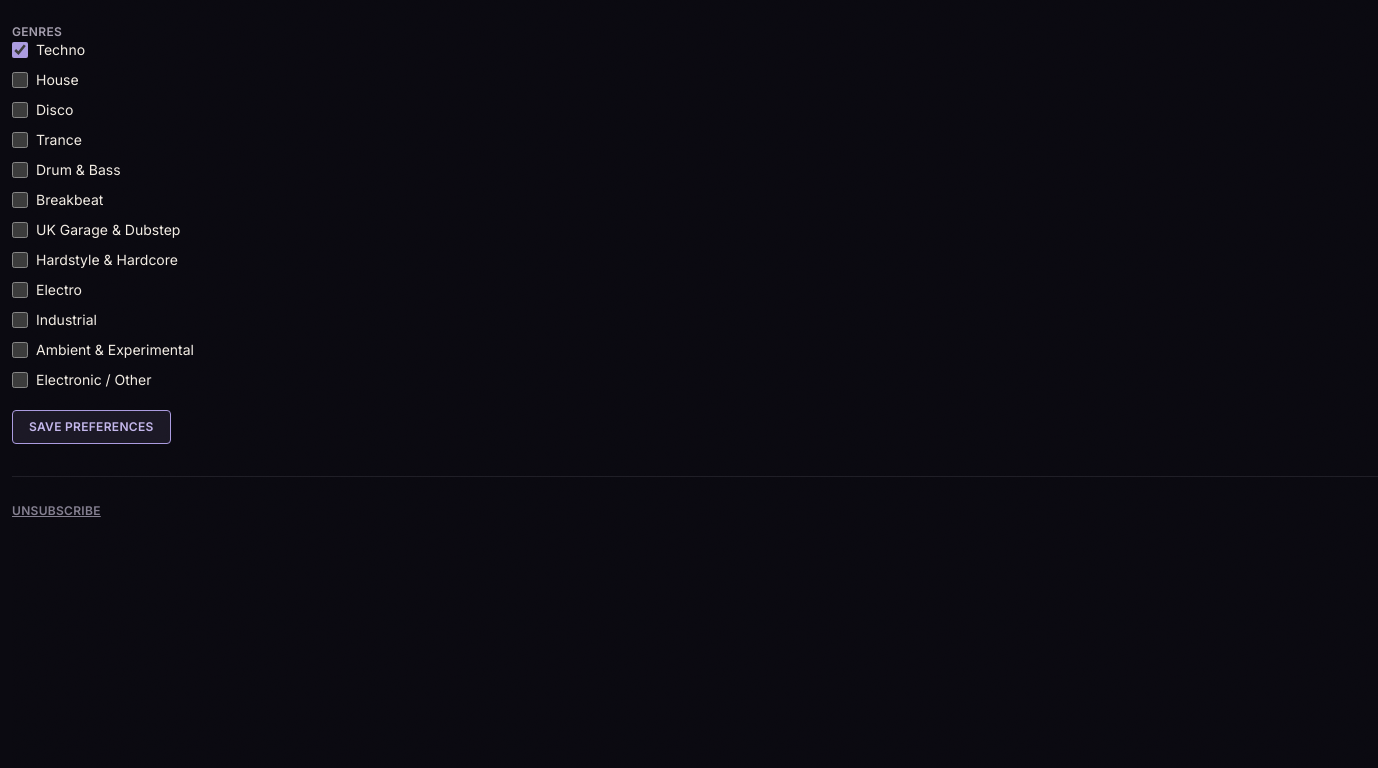
Test case: NewsletterPreferencesForm › saves the currently-checked genres, not the initial ones, when toggled before saving
Click the checkbox labelled "Techno" at (20, 50), box [12,42,28,58]
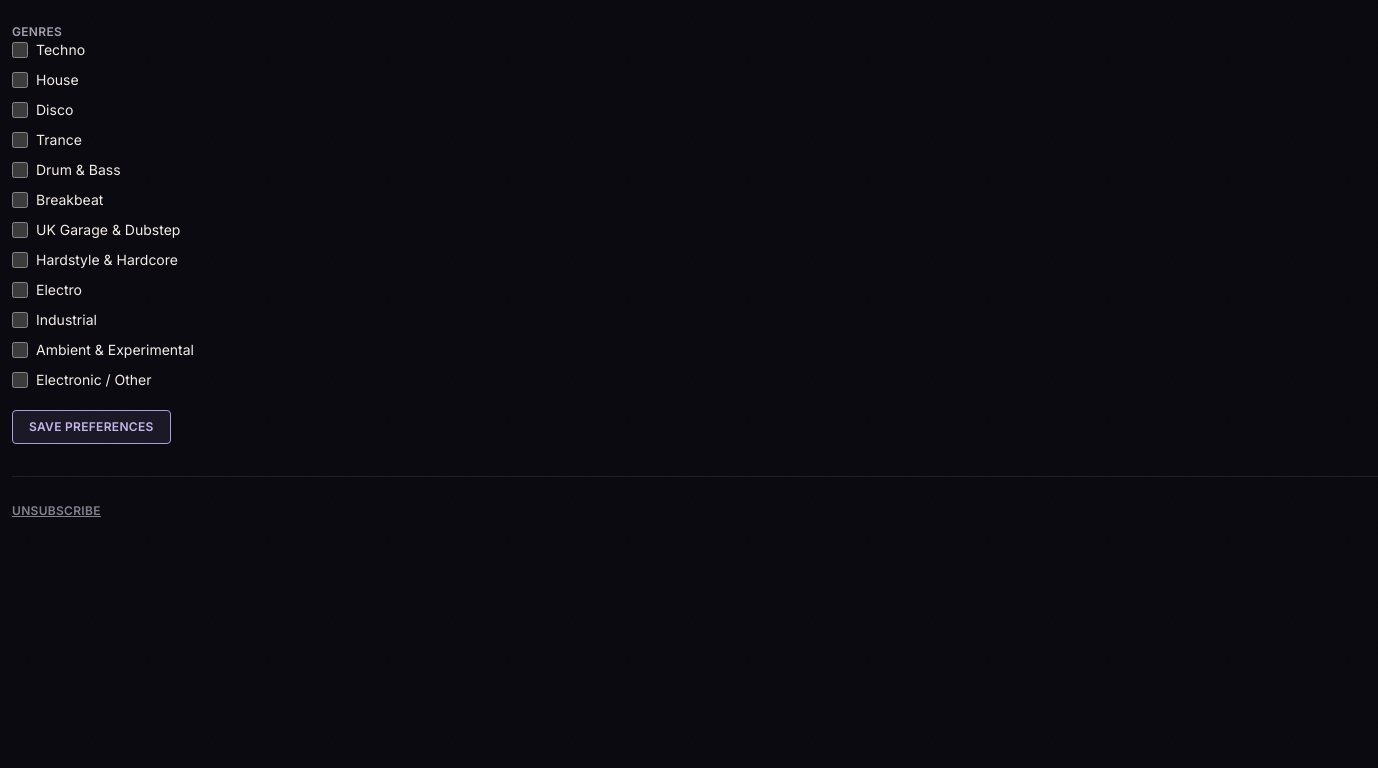
Click the checkbox labelled "House" at (20, 80), box [12,72,28,88]
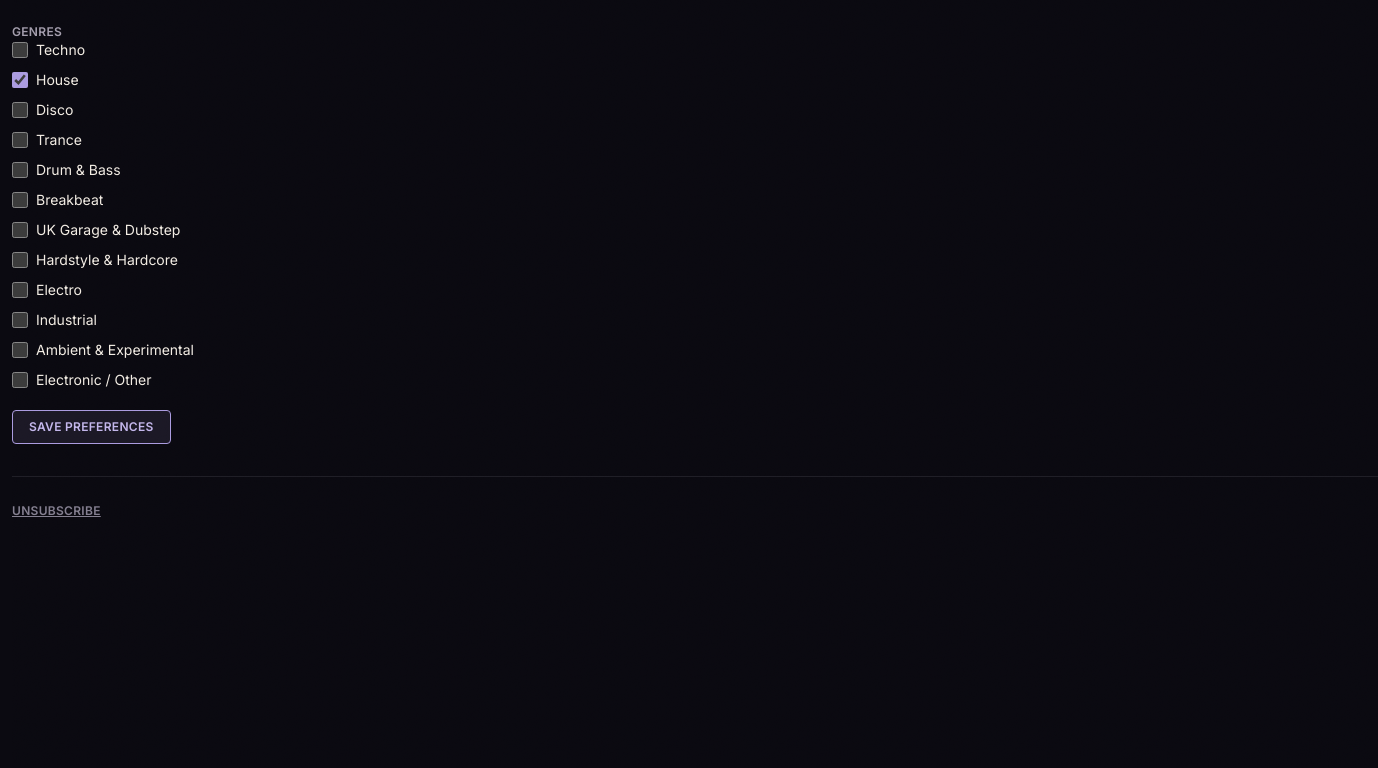
Click the button "Save preferences" at (91, 427), box [12,410,171,444]
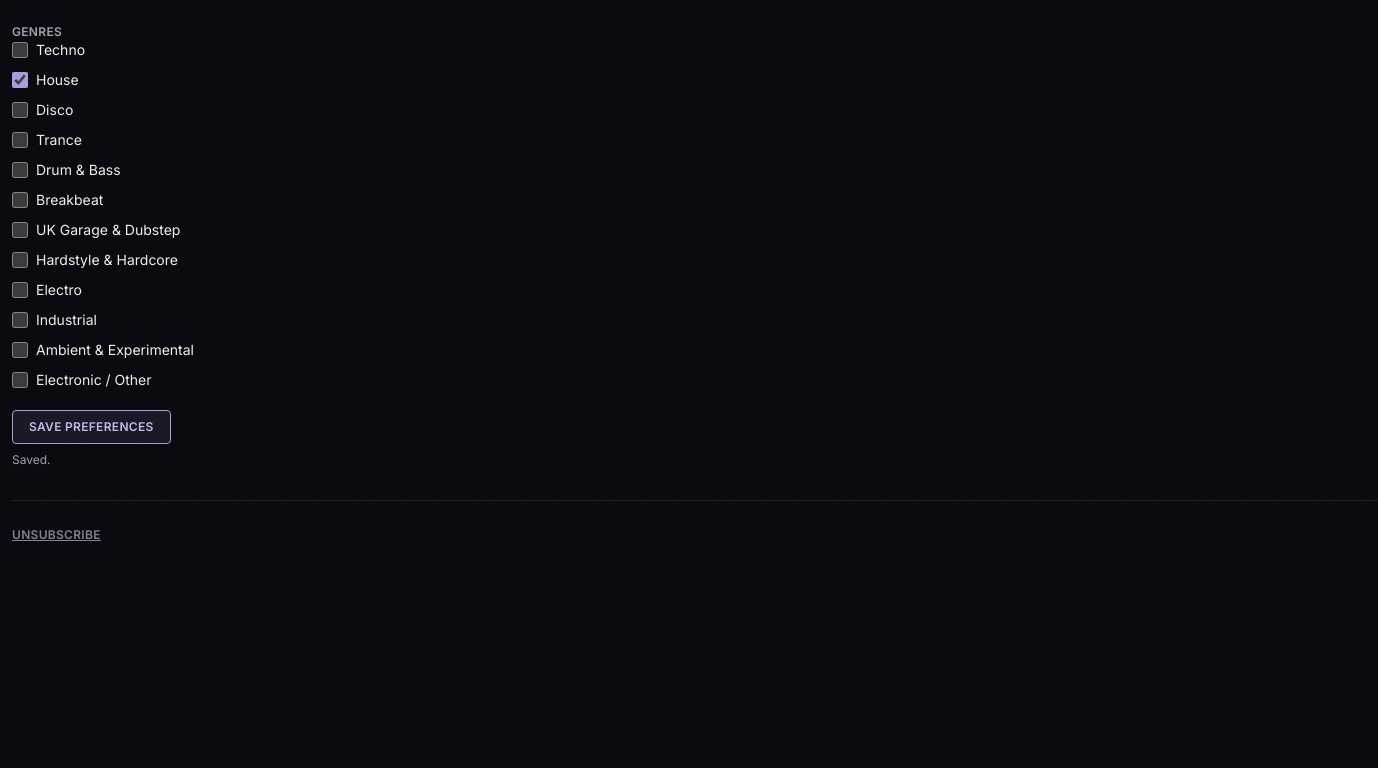
Check: the text "Saved." is shown, box [12,452,51,467]
